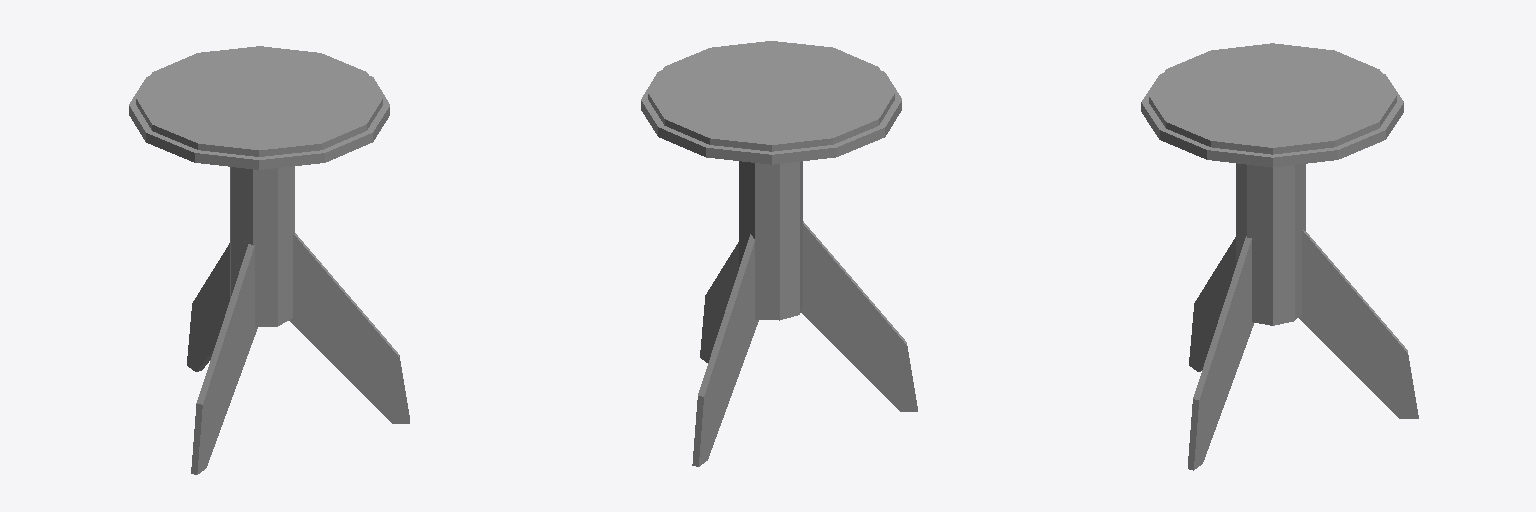
File: tablemini.obj
3 renders of one model, left to right at view 1: azimuth 30°, elevation 25°; view 2: azimuth 150°, elevation 25°; view 3: azimuth 270°, elevation 25°, orthographic.
Parts seen in each view (by area): view 1: Couche:OBJECT001, Couche:OBJECT003, Couche:OBJECT002, Couche:OBJECT005, Couche:OBJECT000, Couche:OBJECT004; view 2: Couche:OBJECT001, Couche:OBJECT005, Couche:OBJECT002, Couche:OBJECT004, Couche:OBJECT000, Couche:OBJECT003; view 3: Couche:OBJECT001, Couche:OBJECT004, Couche:OBJECT002, Couche:OBJECT003, Couche:OBJECT000, Couche:OBJECT005.
Boxes of the visible parts, box(x1,y1,x2,y2) form: Couche:OBJECT001: box(136, 46, 382, 156); Couche:OBJECT003: box(289, 233, 409, 423); Couche:OBJECT002: box(230, 166, 294, 326); Couche:OBJECT005: box(191, 244, 257, 474); Couche:OBJECT000: box(129, 76, 389, 169); Couche:OBJECT004: box(187, 243, 229, 371); Couche:OBJECT001: box(648, 41, 894, 151); Couche:OBJECT005: box(801, 221, 917, 411); Couche:OBJECT002: box(739, 161, 802, 320); Couche:OBJECT004: box(692, 234, 758, 466); Couche:OBJECT000: box(641, 70, 901, 164); Couche:OBJECT003: box(700, 242, 738, 362); Couche:OBJECT001: box(1149, 43, 1396, 154); Couche:OBJECT004: box(1299, 230, 1418, 418); Couche:OBJECT002: box(1236, 163, 1305, 325); Couche:OBJECT003: box(1188, 236, 1253, 470); Couche:OBJECT000: box(1141, 73, 1403, 167); Couche:OBJECT005: box(1189, 237, 1235, 371).
Bounding box in the file's own units: 7.2 × 9.7 × 7.6.